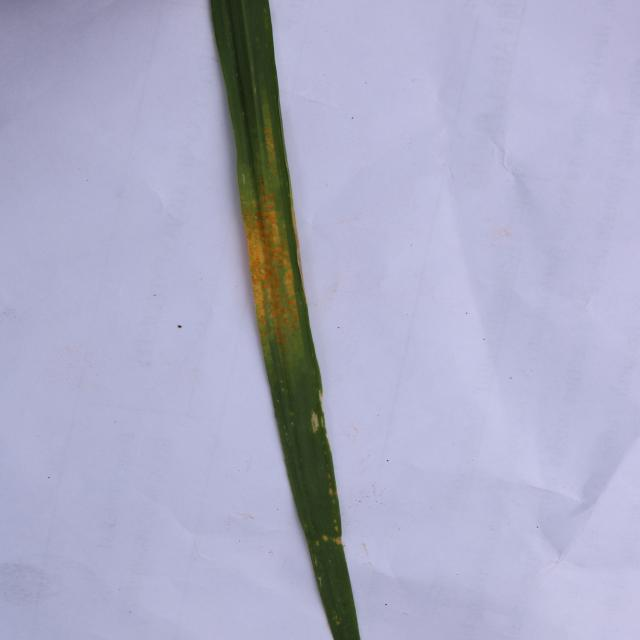Stripe Rust: (245, 190, 304, 338)
